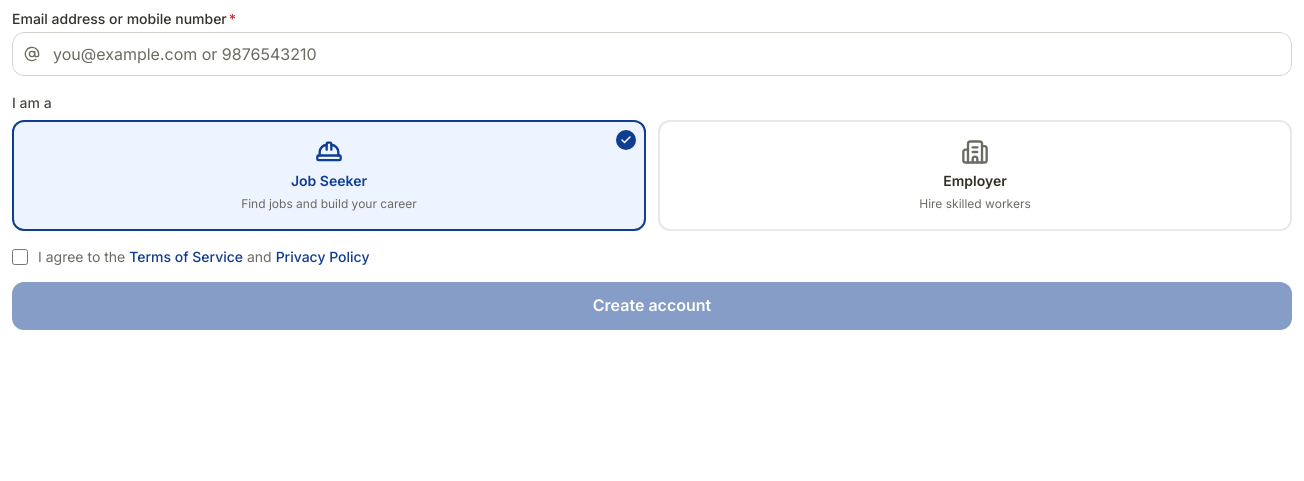
it: SignupForm › shows EMAIL_TAKEN error when email is already registered
Type "amir@example.com" into the field labelled "Email address or mobile number*". click: (652, 54)
box: 12,32 -> 1292,76
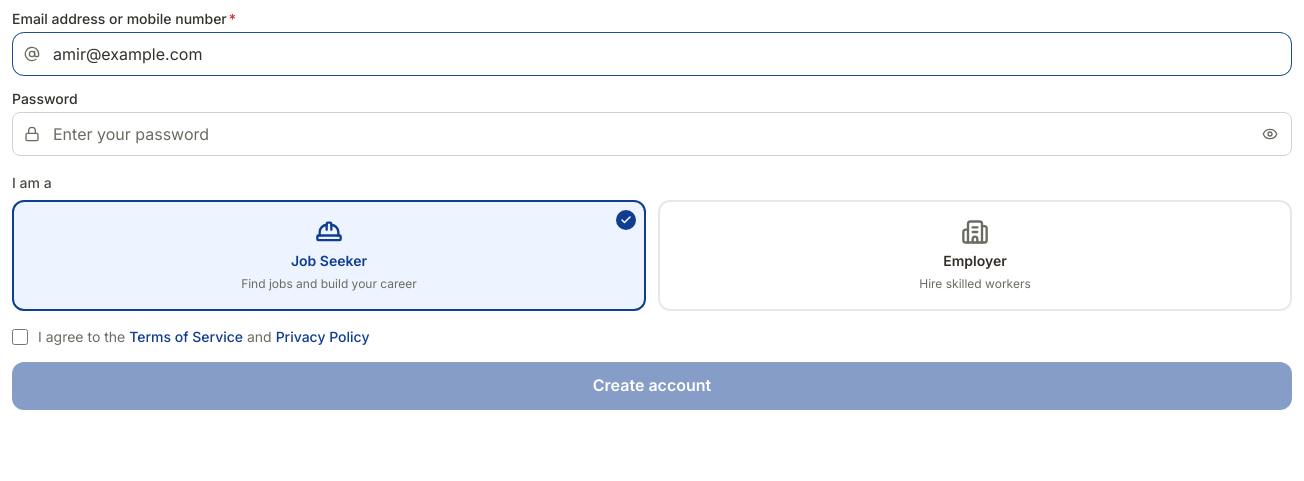
Type "AnyP@ssw0rd" into the password field labelled "Password". click: (652, 134)
box: 12,112 -> 1292,156
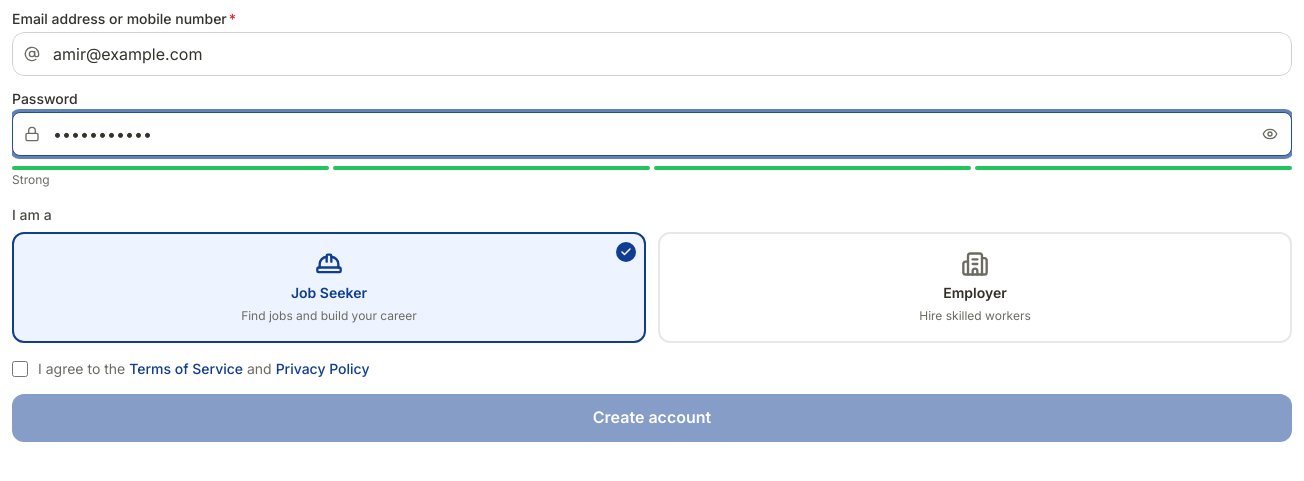
Click the checkbox. click: click(20, 368)
box: 12,360 -> 28,376
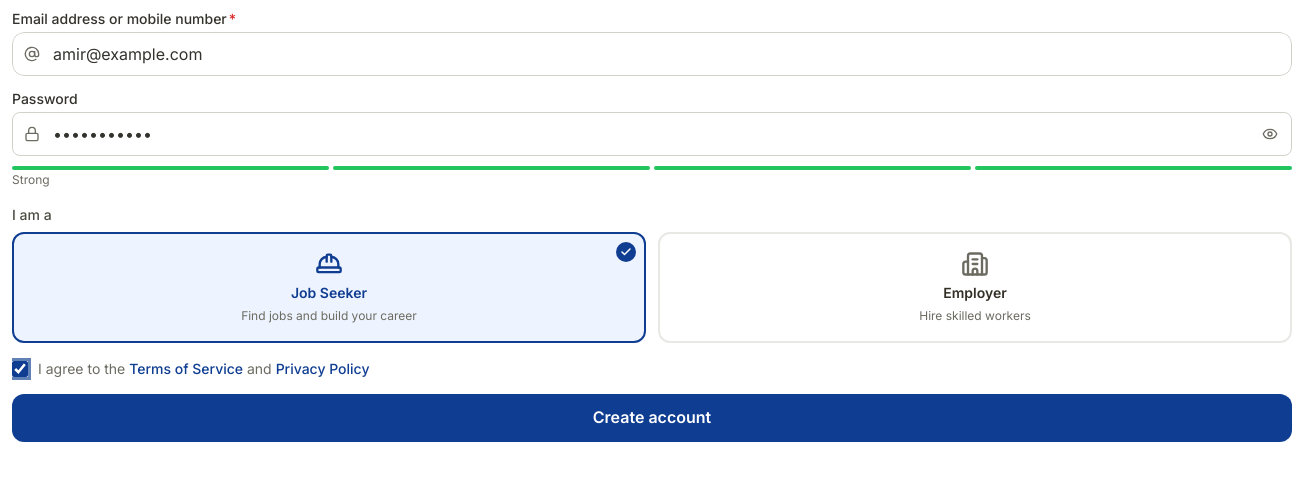
Click the button "Create account". click: click(652, 418)
box: 12,394 -> 1292,442
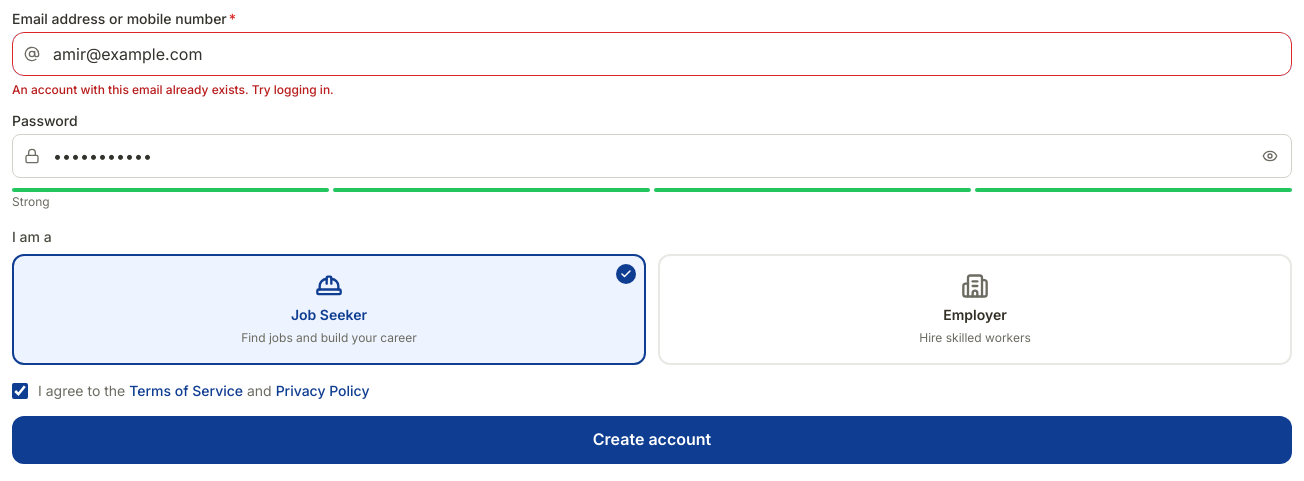
Result: the message shows "account with this email already exists" at 12,82 -> 334,97
